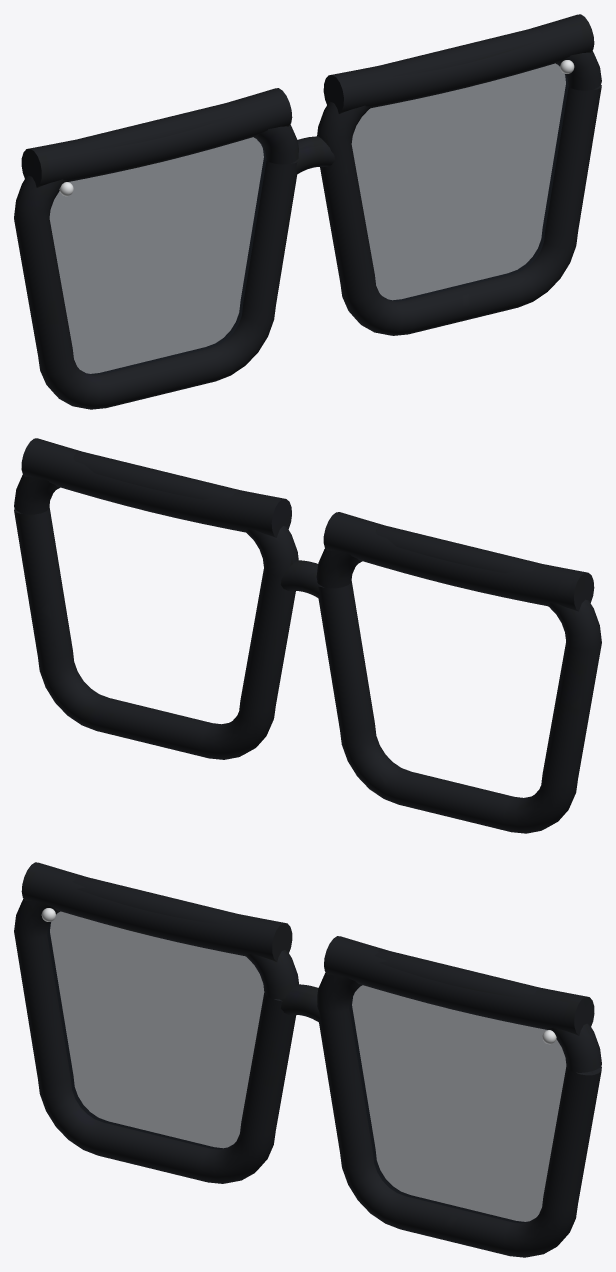
The model's file is wear-sunglasses.glb.
The picture shows the model from 3 angles, top to bottom: view 1: azimuth 30°, elevation 25°; view 2: azimuth 150°, elevation 25°; view 3: azimuth 330°, elevation 25°; orthographic projection.
Visible parts, largest first — view 1: sunglasses-lens, sunglasses; view 2: sunglasses; view 3: sunglasses-lens, sunglasses.
Part boxes in pixels (left/top/right/bottom): sunglasses-lens: left=49, top=63, right=568, bottom=375; sunglasses: left=14, top=14, right=601, bottom=409; sunglasses: left=14, top=438, right=601, bottom=833; sunglasses-lens: left=47, top=911, right=566, bottom=1223; sunglasses: left=14, top=862, right=601, bottom=1257.
Size of the model in its own units: 1.13 by 0.505 by 0.0755.
2 materials, 1 textured.
